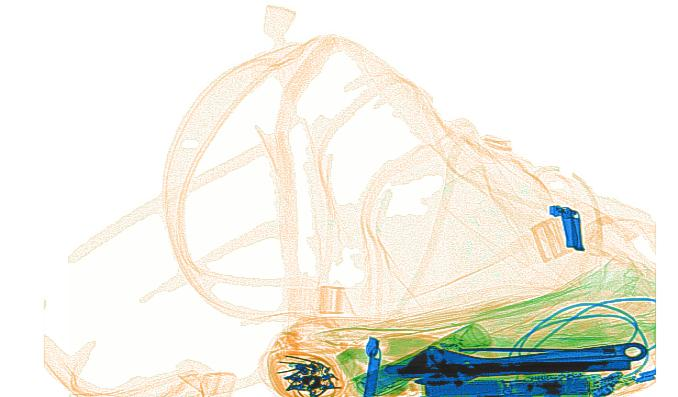battery: (421, 368, 613, 394), (359, 351, 425, 392)
